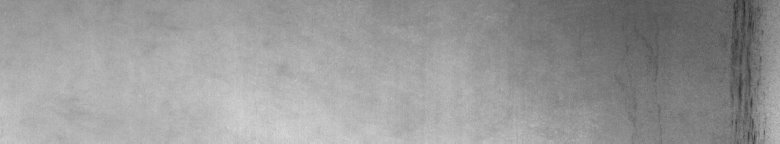ka: (724, 4, 766, 136)
